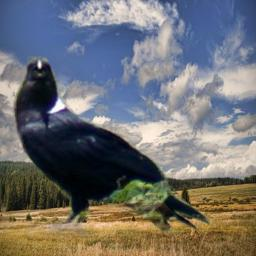Crow: (11, 56, 213, 238)
